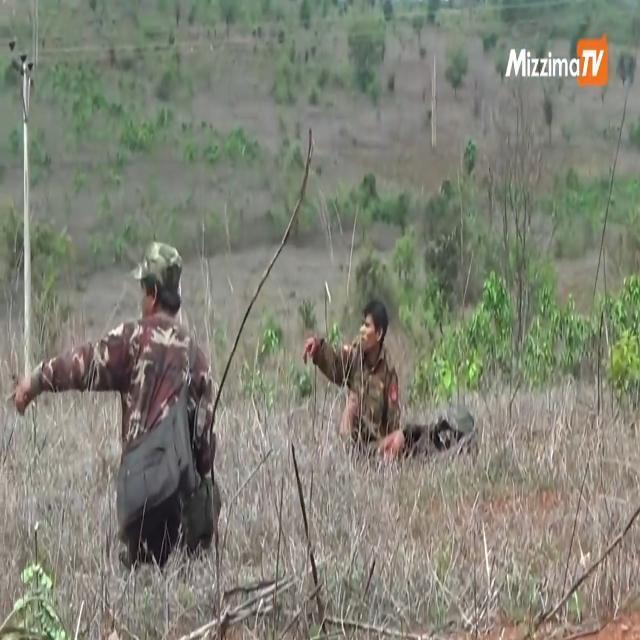MIL_Pax: (14, 242, 215, 564), (302, 300, 404, 454)
